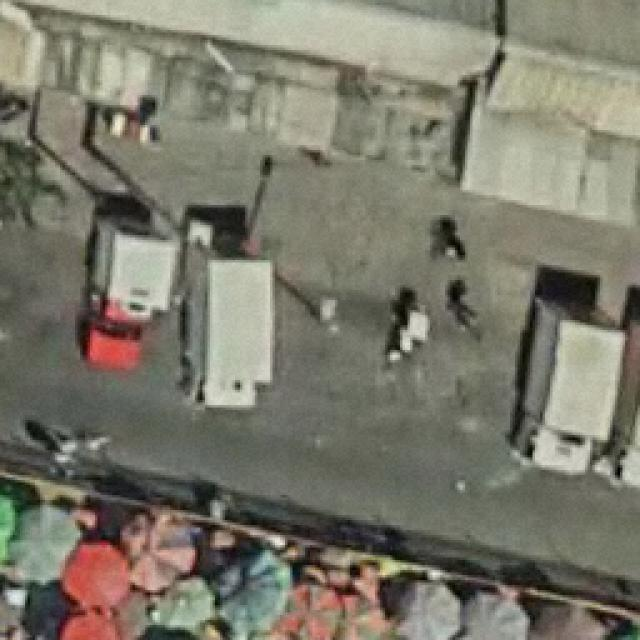vendedor_ambulante: (116, 502, 202, 590), (9, 501, 81, 588), (216, 550, 290, 630), (381, 575, 466, 640), (56, 541, 132, 611), (452, 582, 530, 640), (153, 572, 220, 628), (279, 579, 340, 640), (535, 597, 605, 640), (57, 601, 126, 640), (332, 591, 386, 640)
